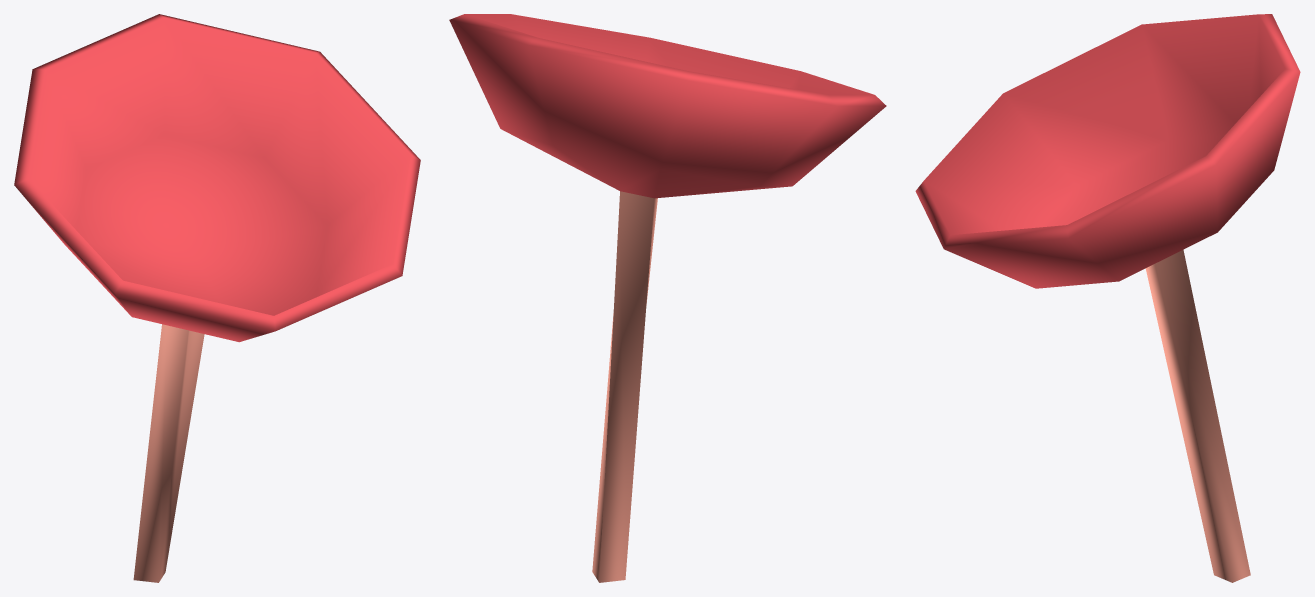
File: mushroom3.fbx
3 views of the same model, side by side, from view 1: azimuth 30°, elevation 25°; view 2: azimuth 150°, elevation 25°; view 3: azimuth 270°, elevation 25° (orthographic). The views are drawn at different scales.
Visible parts, largest first — view 1: Mushroom_d_03; view 2: Mushroom_d_03; view 3: Mushroom_d_03.
Part boxes in pixels (x1,y1,x2,y2): Mushroom_d_03: (14, 14, 420, 582); Mushroom_d_03: (449, 14, 886, 582); Mushroom_d_03: (915, 14, 1300, 582).
Bounding box in the file's own units: 14.59 × 15.99 × 22.01.
Materials: 1 (1 with a texture image).
